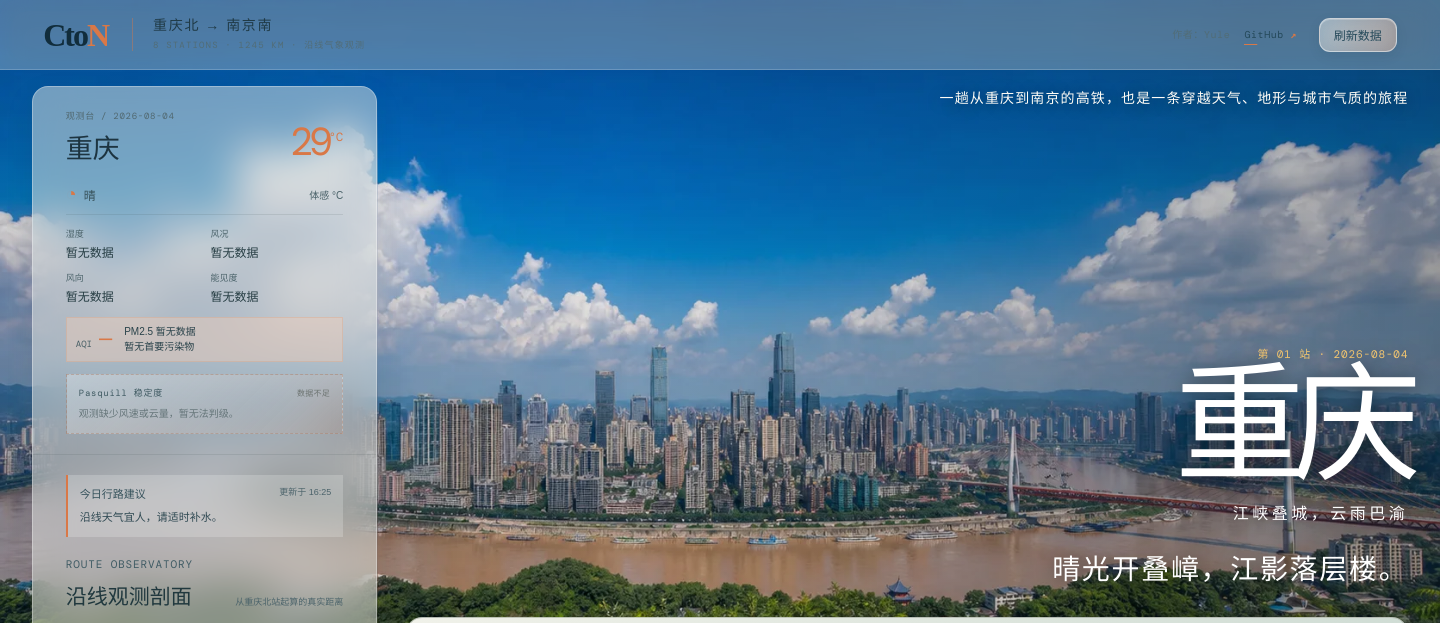
it: 核心观测交互 › 刷新时只并行读取天气、剖面和最新建议
Click the button with class "refresh-button" at x=1358, y=34, box [1319,18,1397,52]
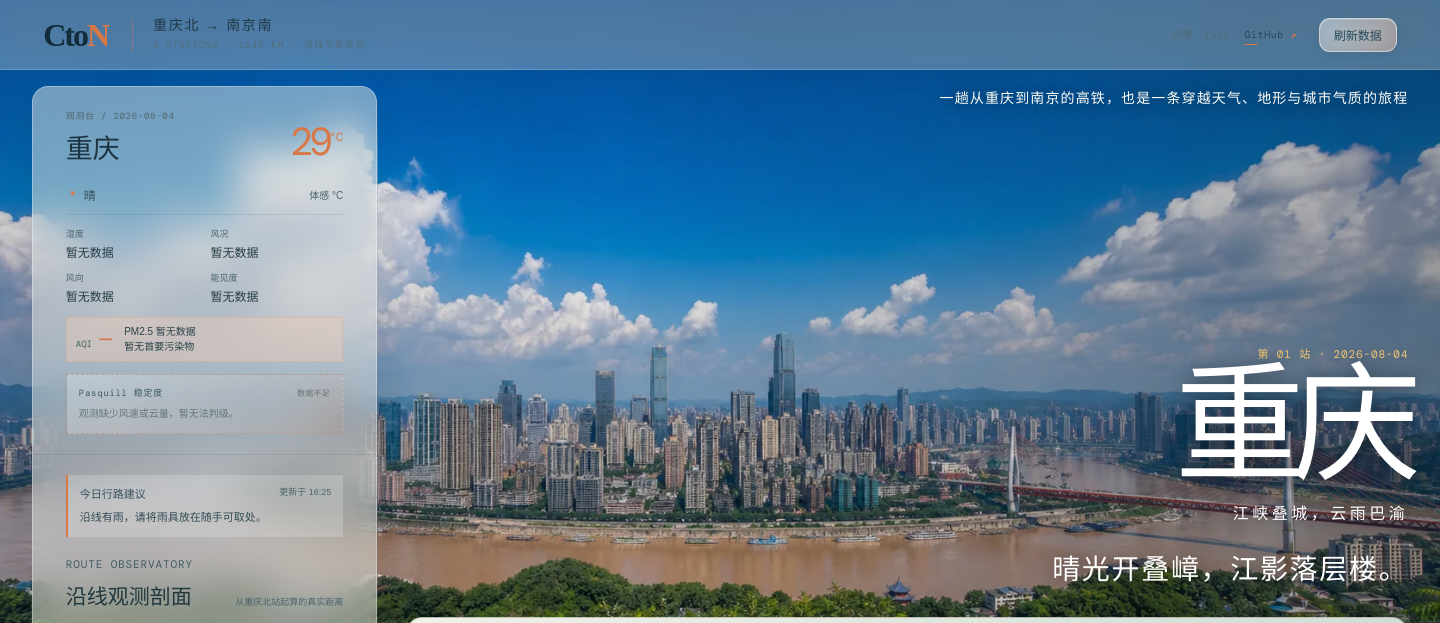
Expected: the element with class "travel-advice" shows "沿线有雨，请将雨具放在随手可取处。", [80,510,267,522]
